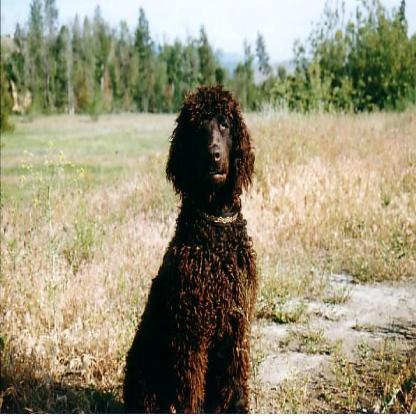Irish_water_spaniel: (121, 84, 255, 412)
